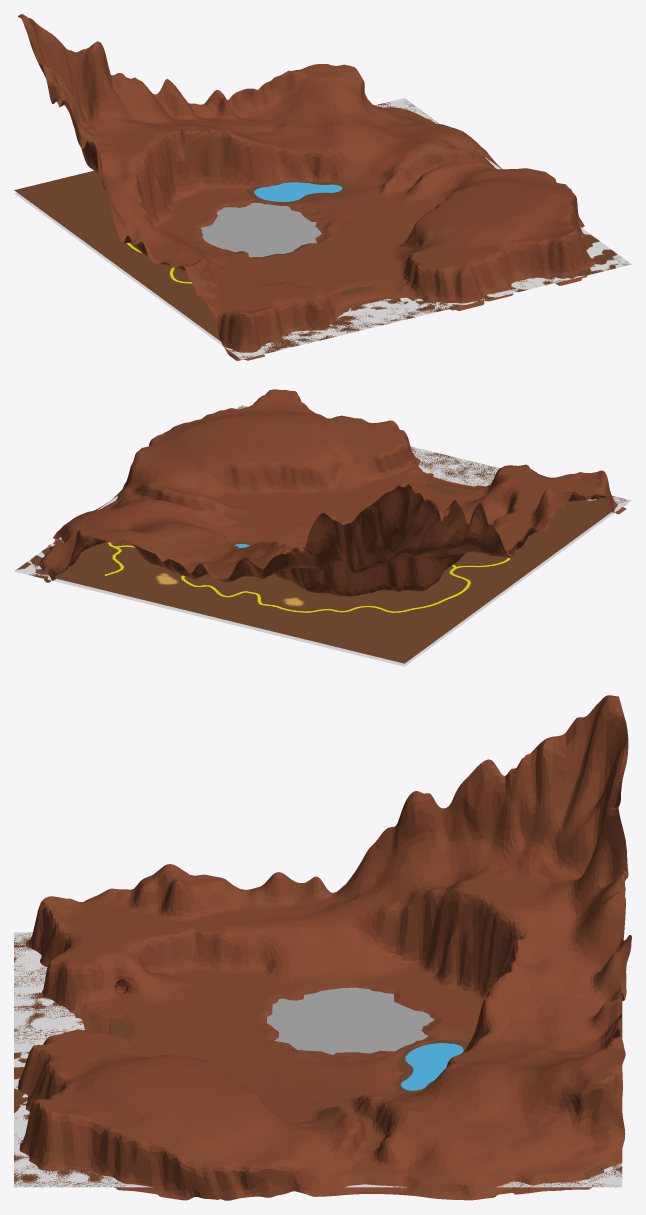
Rendered from Landscape.gltf.
3 renders of one model, top to bottom at view 1: azimuth 30°, elevation 25°; view 2: azimuth 150°, elevation 25°; view 3: azimuth 270°, elevation 25°, orthographic. The views are drawn at different scales.
Visible parts, largest first — view 1: Map, Sculpting_map, Origin_map; view 2: Map, Sculpting_map, Origin_map; view 3: Map, Sculpting_map, Origin_map.
Boxes of the visible parts, x1,y1,x2,y2 form: Map: (18,14,595,360); Sculpting_map: (14,99,628,357); Origin_map: (14,98,631,359); Map: (39,389,625,596); Sculpting_map: (15,405,627,663); Origin_map: (14,405,631,666); Map: (18,695,631,1200); Sculpting_map: (14,932,622,1187); Origin_map: (14,932,622,1187).
Size of what is drawn, in the model's own units: 18.56 by 8.02 by 18.3.
Materials: 3 (3 with a texture image).
